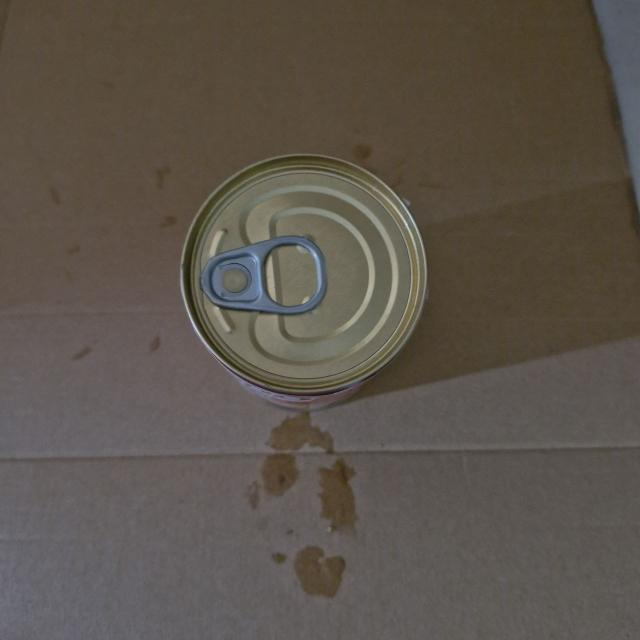metal: (170, 146, 438, 420)
